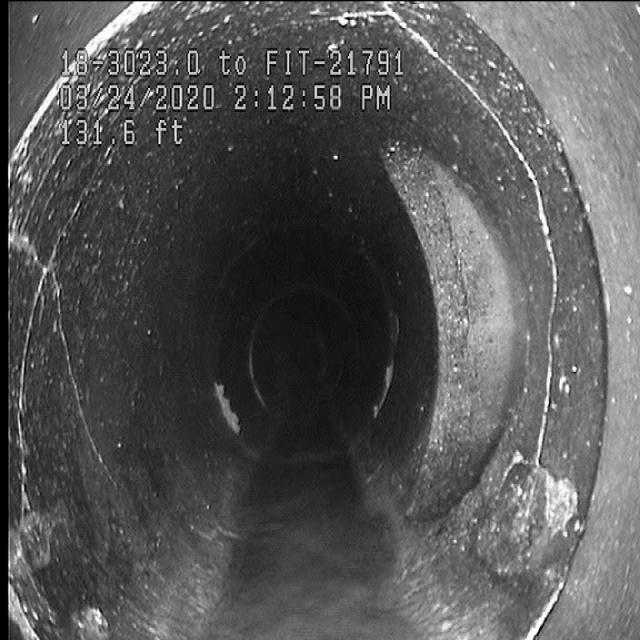Crack: (463, 70, 581, 552), (31, 246, 120, 518)
